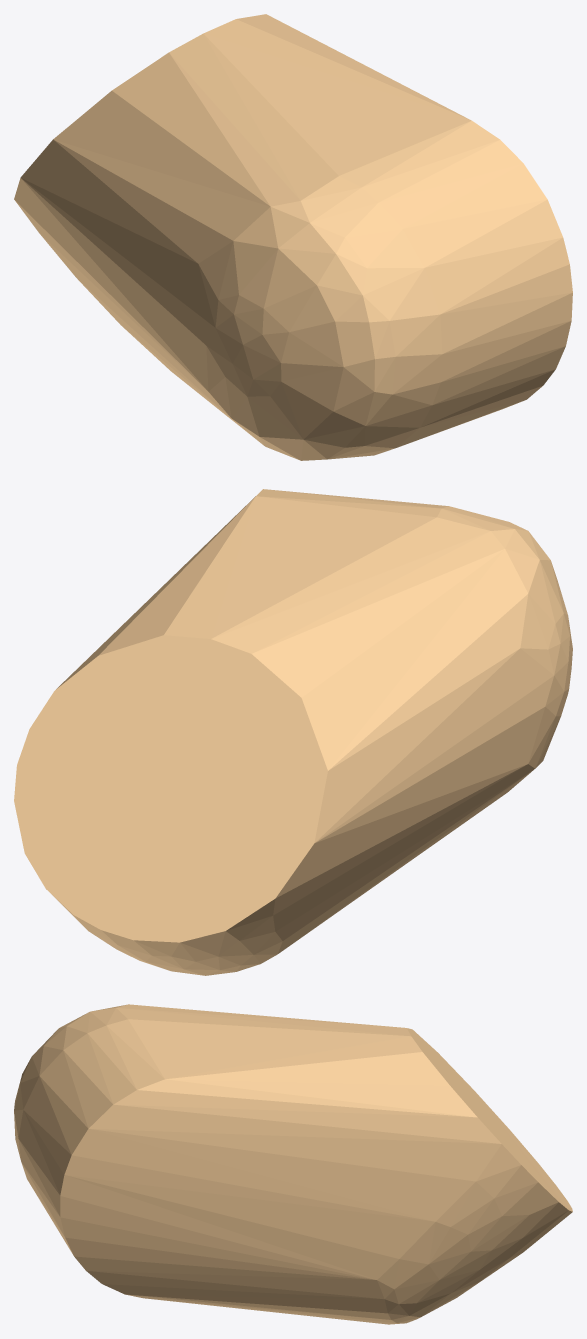
Rendered from Panda_link3_respondable_coll_1.dae.
3 views of the same model, one above another, from view 1: azimuth 30°, elevation 25°; view 2: azimuth 150°, elevation 25°; view 3: azimuth 270°, elevation 25° (orthographic). The views are drawn at different scales.
Parts seen in each view (by area): view 1: Node_0x7f9e8a20fda0; view 2: Node_0x7f9e8a20fda0; view 3: Node_0x7f9e8a20fda0.
Part boxes in pixels (box(x1,y1,x2,y2)): Node_0x7f9e8a20fda0: box(14, 14, 572, 460); Node_0x7f9e8a20fda0: box(14, 489, 572, 975); Node_0x7f9e8a20fda0: box(14, 1004, 572, 1324).
Bounding box in the file's own units: 0.1255 × 0.1317 × 0.2484.
